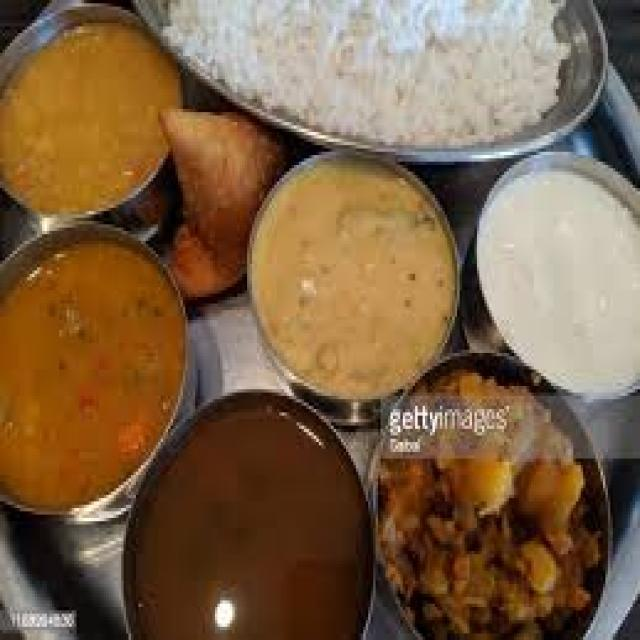dal: (259, 148, 472, 411), (4, 249, 190, 513), (471, 159, 635, 384)
rice: (332, 0, 581, 160)
roti: (382, 446, 602, 626)
